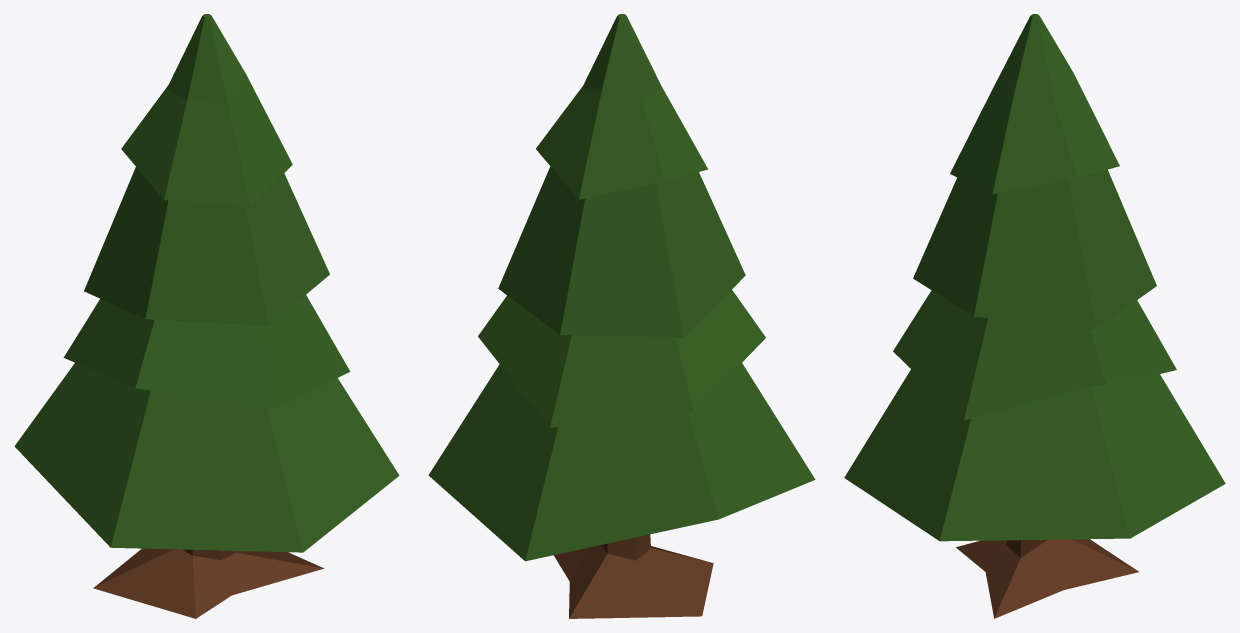
File: Tree#1.fbx
3 views of the same model, side by side, from view 1: azimuth 30°, elevation 25°; view 2: azimuth 150°, elevation 25°; view 3: azimuth 270°, elevation 25° (orthographic).
Visible parts, largest first — view 1: Tree#1; view 2: Tree#1; view 3: Tree#1.
Part boxes in pixels (x1,y1,x2,y2): Tree#1: (14, 14, 399, 618); Tree#1: (428, 14, 815, 618); Tree#1: (844, 14, 1225, 618).
Bounding box in the file's own units: 756 × 1405 × 873.
